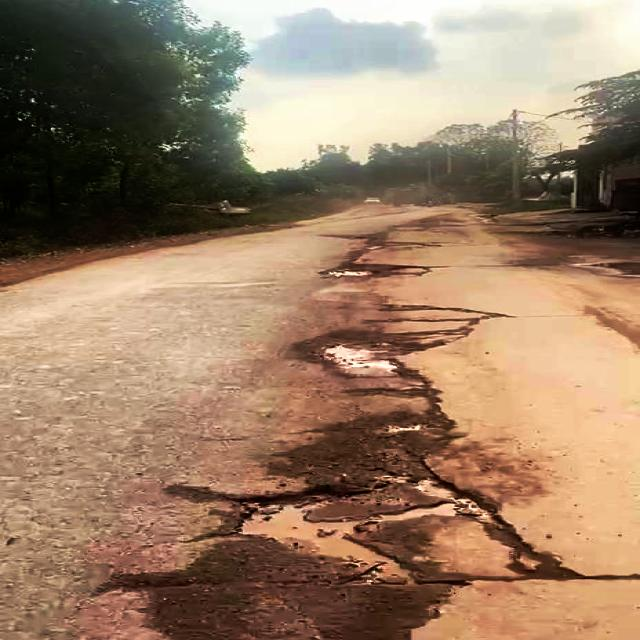pothole: (220, 453, 580, 601), (287, 318, 490, 382), (316, 260, 432, 278)
